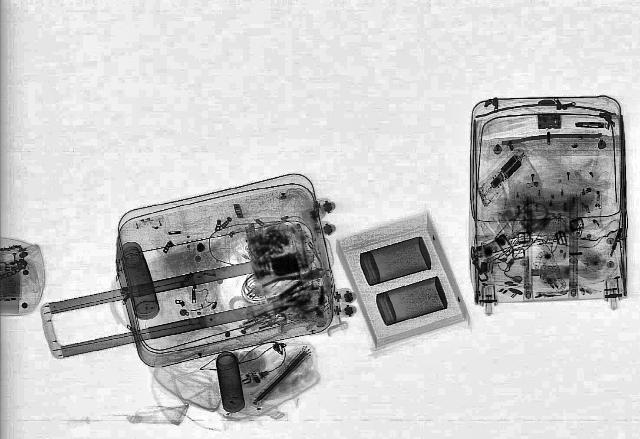Pliers: (253, 264, 330, 304)
